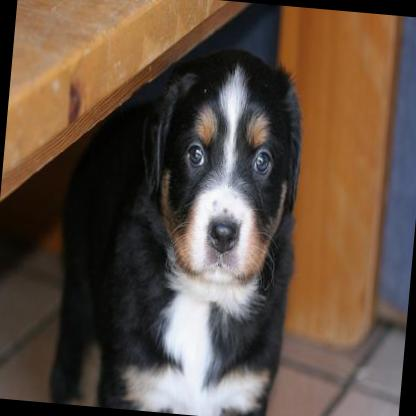Appenzeller: (48, 33, 312, 416)
